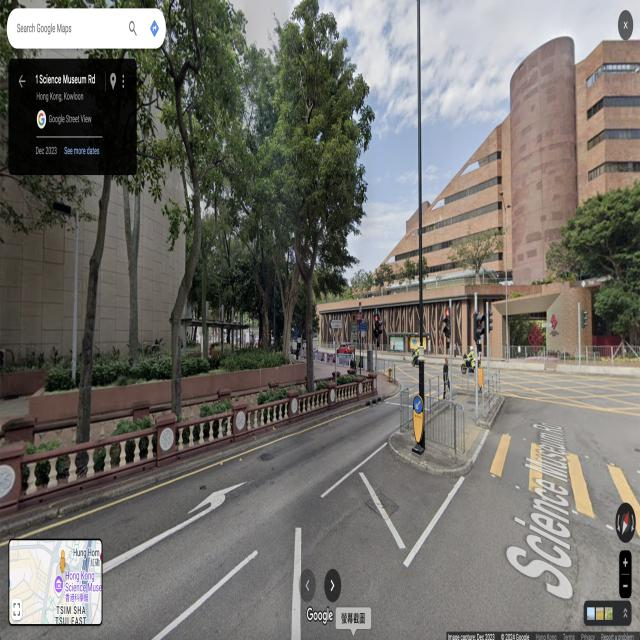Order-Sign: (351, 314, 357, 331)
Street-Direction-Sign: (330, 319, 342, 328)
